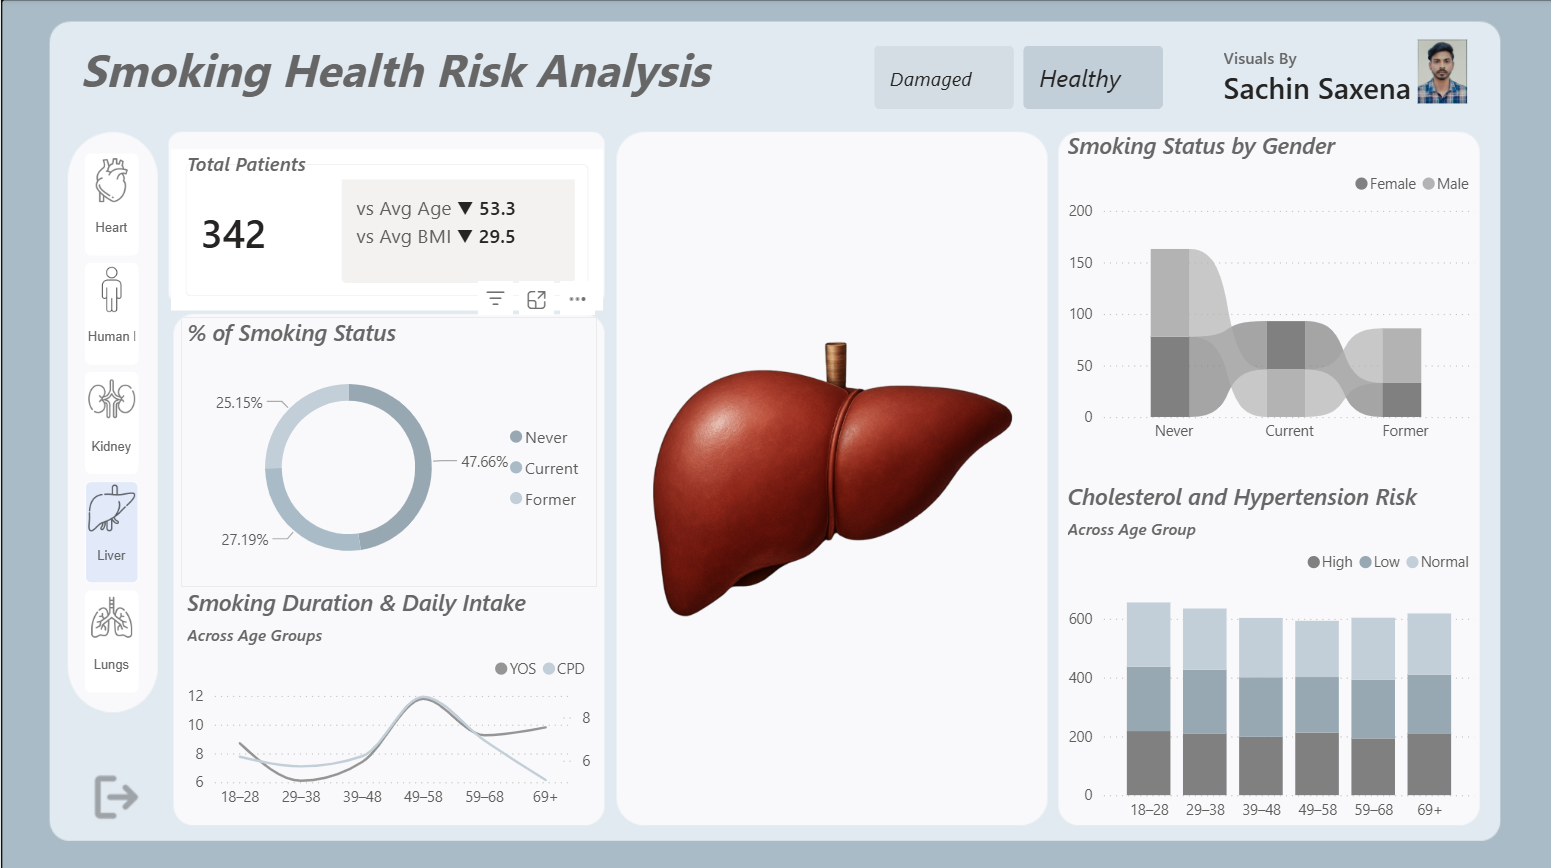

The dashboard page shown, as its layout file describes it:
{"tool":"powerbi","page":{"name":"Page 1","canvas":[1280,720],"ordinal":0},"visuals":[{"type":"cardVisual","fields":{"Data":["CountNonNull(health_dataset.Patient_ID)"]},"box":[134.8,118.1,366.4,143.8],"z":0},{"type":"textbox","box":[148.4,118.1,249.8,57.5],"z":1000},{"type":"advancedSlicerVisual","fields":{"Values":["condition.Organ_Condition"]},"box":[714.7,33.3,249.8,62.1],"z":2000},{"type":"image","box":[513.3,118.1,346.8,557.2],"z":3000},{"type":"ChicletSlicer1448559807354","fields":{"Category":["Organs.Organ"],"Image":["Organs.Icon_URL"]},"box":[60.6,118.1,74.2,475.5],"z":4000},{"type":"donutChart","title":"% of Smoking Status","fields":{"Category":["health_dataset.Smoking_Status"],"Y":["CountNonNull(health_dataset.Smoking_Status)"]},"box":[148.4,262,342.2,222.6],"z":5000},{"type":"lineChart","title":"Smoking Duration & Daily Intake","fields":{"Category":["health_dataset.Age Group"],"Y":["Avg(health_dataset.Years_of_Smoking)"],"Y2":["Avg(health_dataset.Cigarettes_Per_Day)"]},"box":[148.4,484.5,342.2,190.8],"z":6000},{"type":"ribbonChart","title":"Smoking Status by Gender","fields":{"Category":["health_dataset.Smoking_Status"],"Y":["CountNonNull(health_dataset.Patient_ID)"],"Series":["health_dataset.Gender"]},"box":[873.7,107.5,345.2,266.5],"z":7000},{"type":"columnChart","title":"Cholesterol and Hypertension Risk","fields":{"Category":["health_dataset.Age Group"],"Y":["Avg(health_dataset.Cholesterol_Level)"],"Series":["health_dataset.BP_Risk"]},"box":[873.7,396.7,345.2,289.2],"z":8000},{"type":"textbox","box":[60.6,27.3,579.9,80.3],"z":9000},{"type":"textbox","box":[1002.4,33.3,277.1,307.4],"z":10000},{"type":"image","box":[1141.7,33.3,90.9,53],"z":11000}]}

Visuals, with their boxes in screenshot pixels (x1, y1, x2, y2), scaled from the page's 1280x720 canvas onto the 1551x868 screenshot:
cardVisual - CountNonNull(health_dataset.Patient_ID): 163 142 607 316
textbox: 180 142 483 212
advancedSlicerVisual - condition.Organ_Condition: 866 40 1169 115
image: 622 142 1042 814
ChicletSlicer1448559807354 - Organs.Organ x Organs.Icon_URL: 73 142 163 716
"% of Smoking Status" donutChart: 180 316 594 584
"Smoking Duration & Daily Intake" lineChart: 180 584 594 814
"Smoking Status by Gender" ribbonChart: 1059 130 1477 451
"Cholesterol and Hypertension Risk" columnChart: 1059 478 1477 827
textbox: 73 33 776 130
textbox: 1215 40 1550 411
image: 1383 40 1494 104
